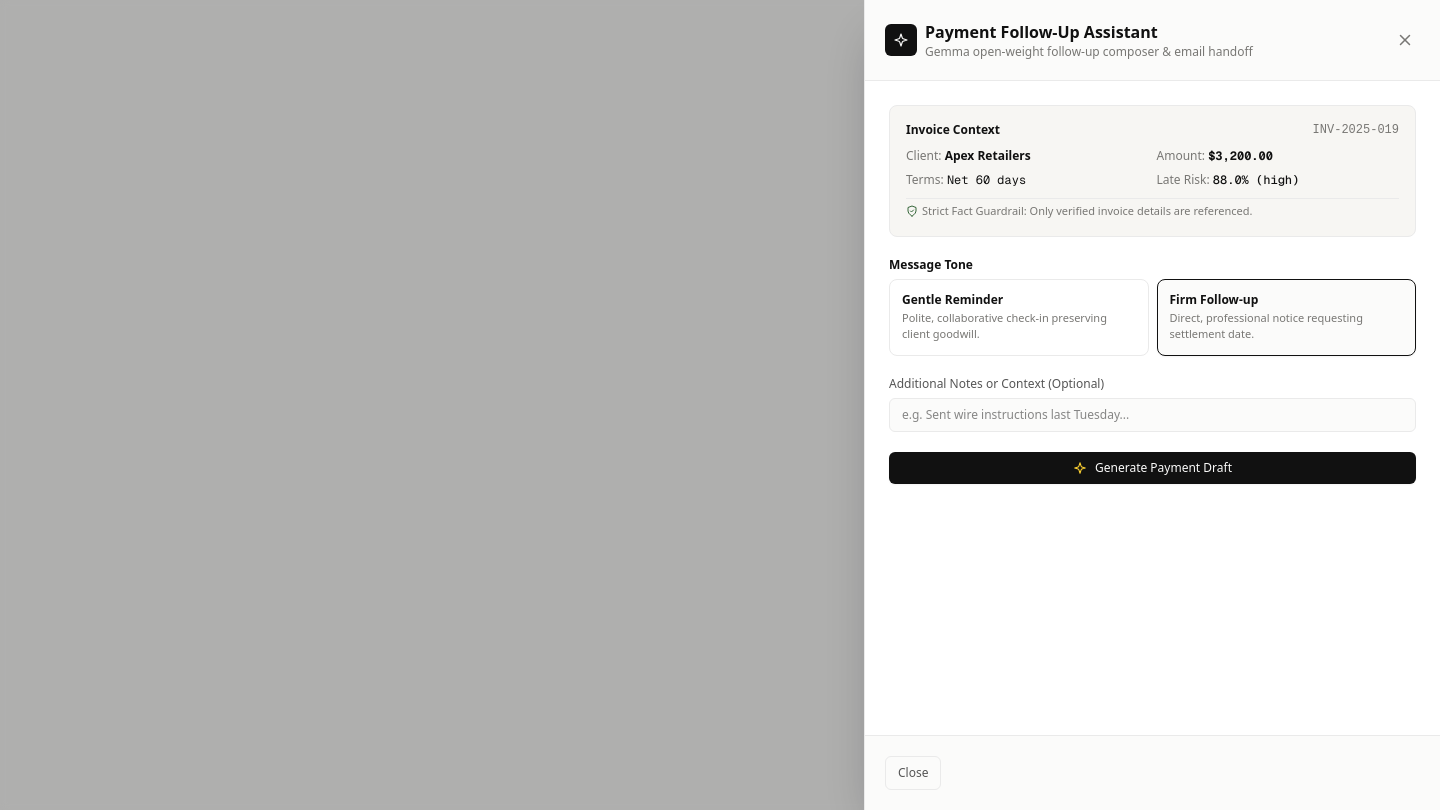
Test: FollowupComposerDrawer › parses subject and message body from Gemma draft without duplication
Click the button "Generate Payment Draft": (1152, 468) [889,452,1416,484]
(page scrolled)
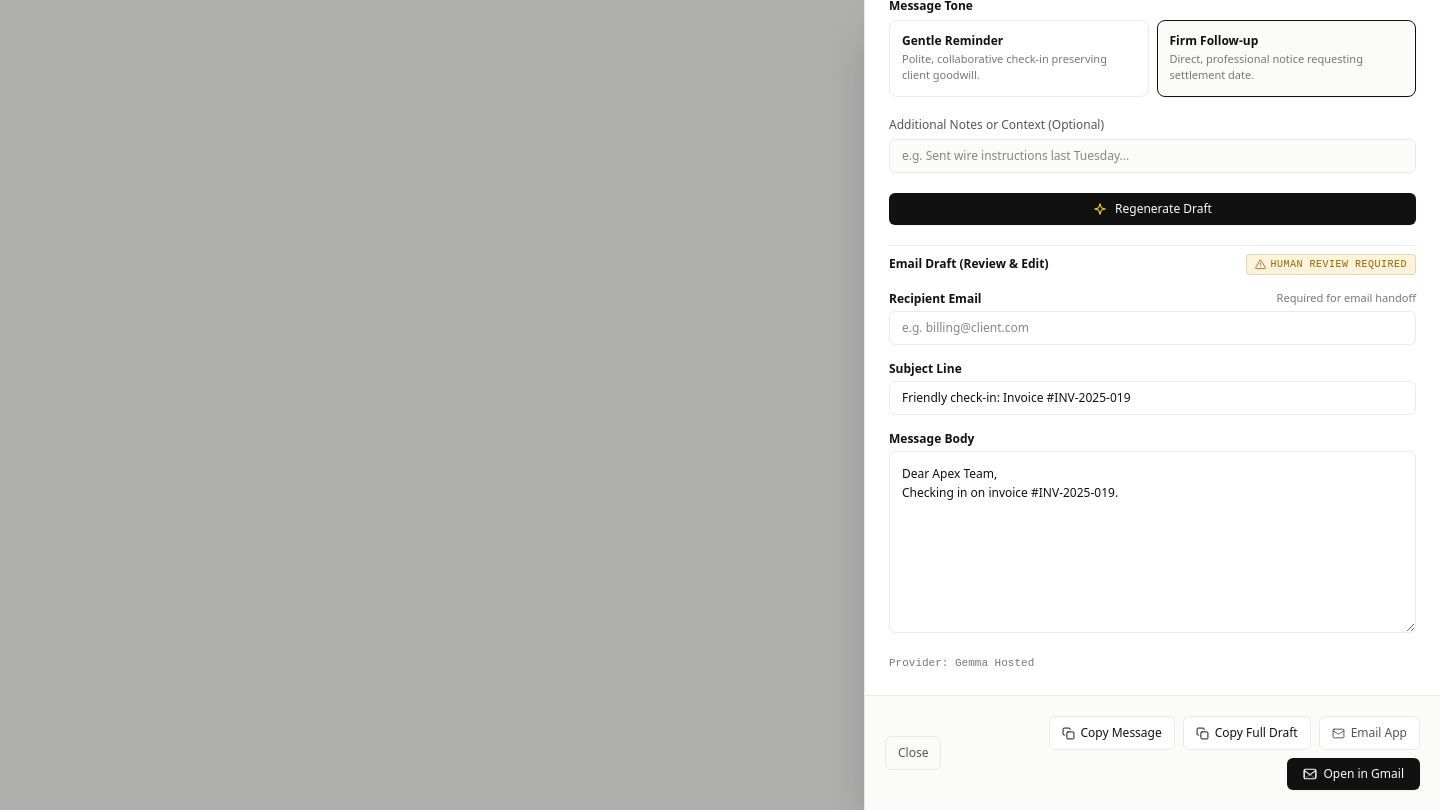
Check: the field labelled "Subject Line" holds "Friendly check-in: Invoice #INV-2025-019", box [889,380,1416,414]
